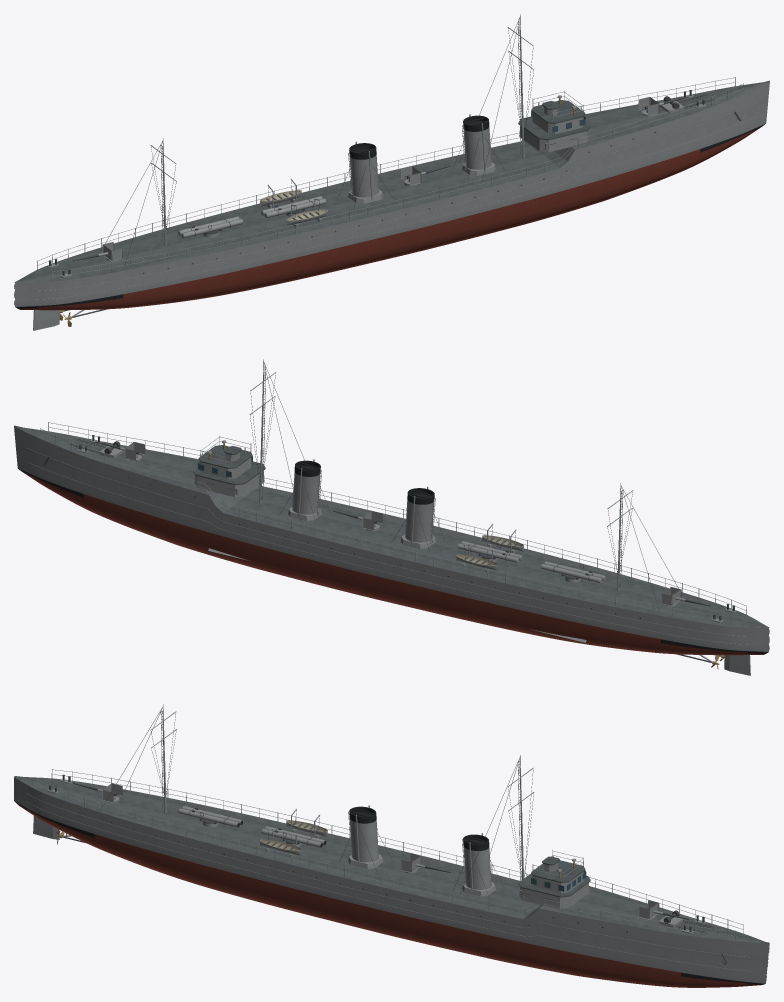
File: s_class_dd_rn.glb
The picture shows the model from 3 angles, top to bottom: view 1: azimuth 30°, elevation 25°; view 2: azimuth 150°, elevation 25°; view 3: azimuth 330°, elevation 25°; orthographic projection.
Parts seen in each view (by area): view 1: S class; view 2: S class; view 3: S class.
Boxes of the visible parts, x1=… form: S class: x1=14, y1=14, x2=769, y2=330; S class: x1=14, y1=359, x2=769, y2=675; S class: x1=14, y1=704, x2=769, y2=987.
Size of the model in its own units: 84.12 by 21.3 by 8.23.
9 materials, 8 textured.
